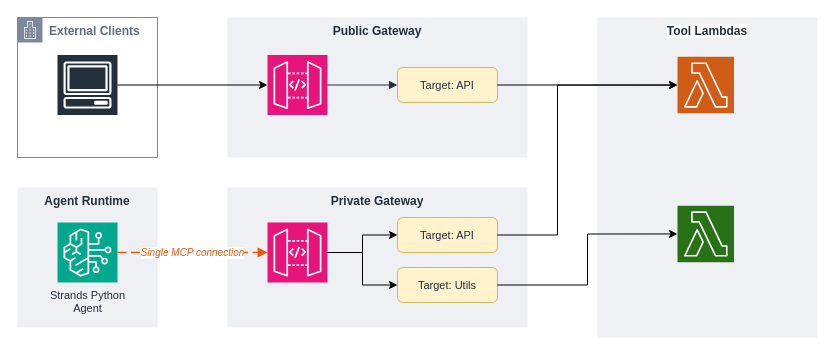
Image size: 835x355. Some labels were removed from this diagram. Here are the shapes that lost their labels. From the top down, the centre of each, then its label:
(87,84): MCP Clients
(297,84): Public MCP Gateway
(705,84): API Lambda (GraphQL + REST)
(297,252): Private MCP Gateway
(705,233): Utils Lambda (CSV Generation, etc.)
